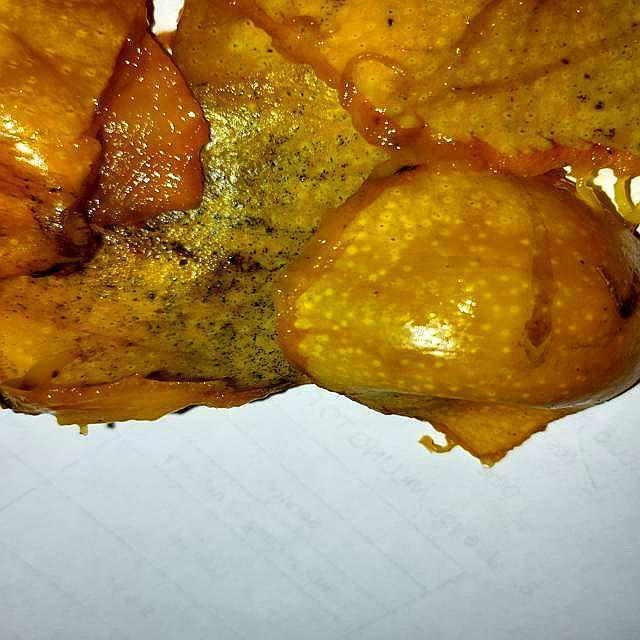Biodegradable: (1, 1, 640, 467)
